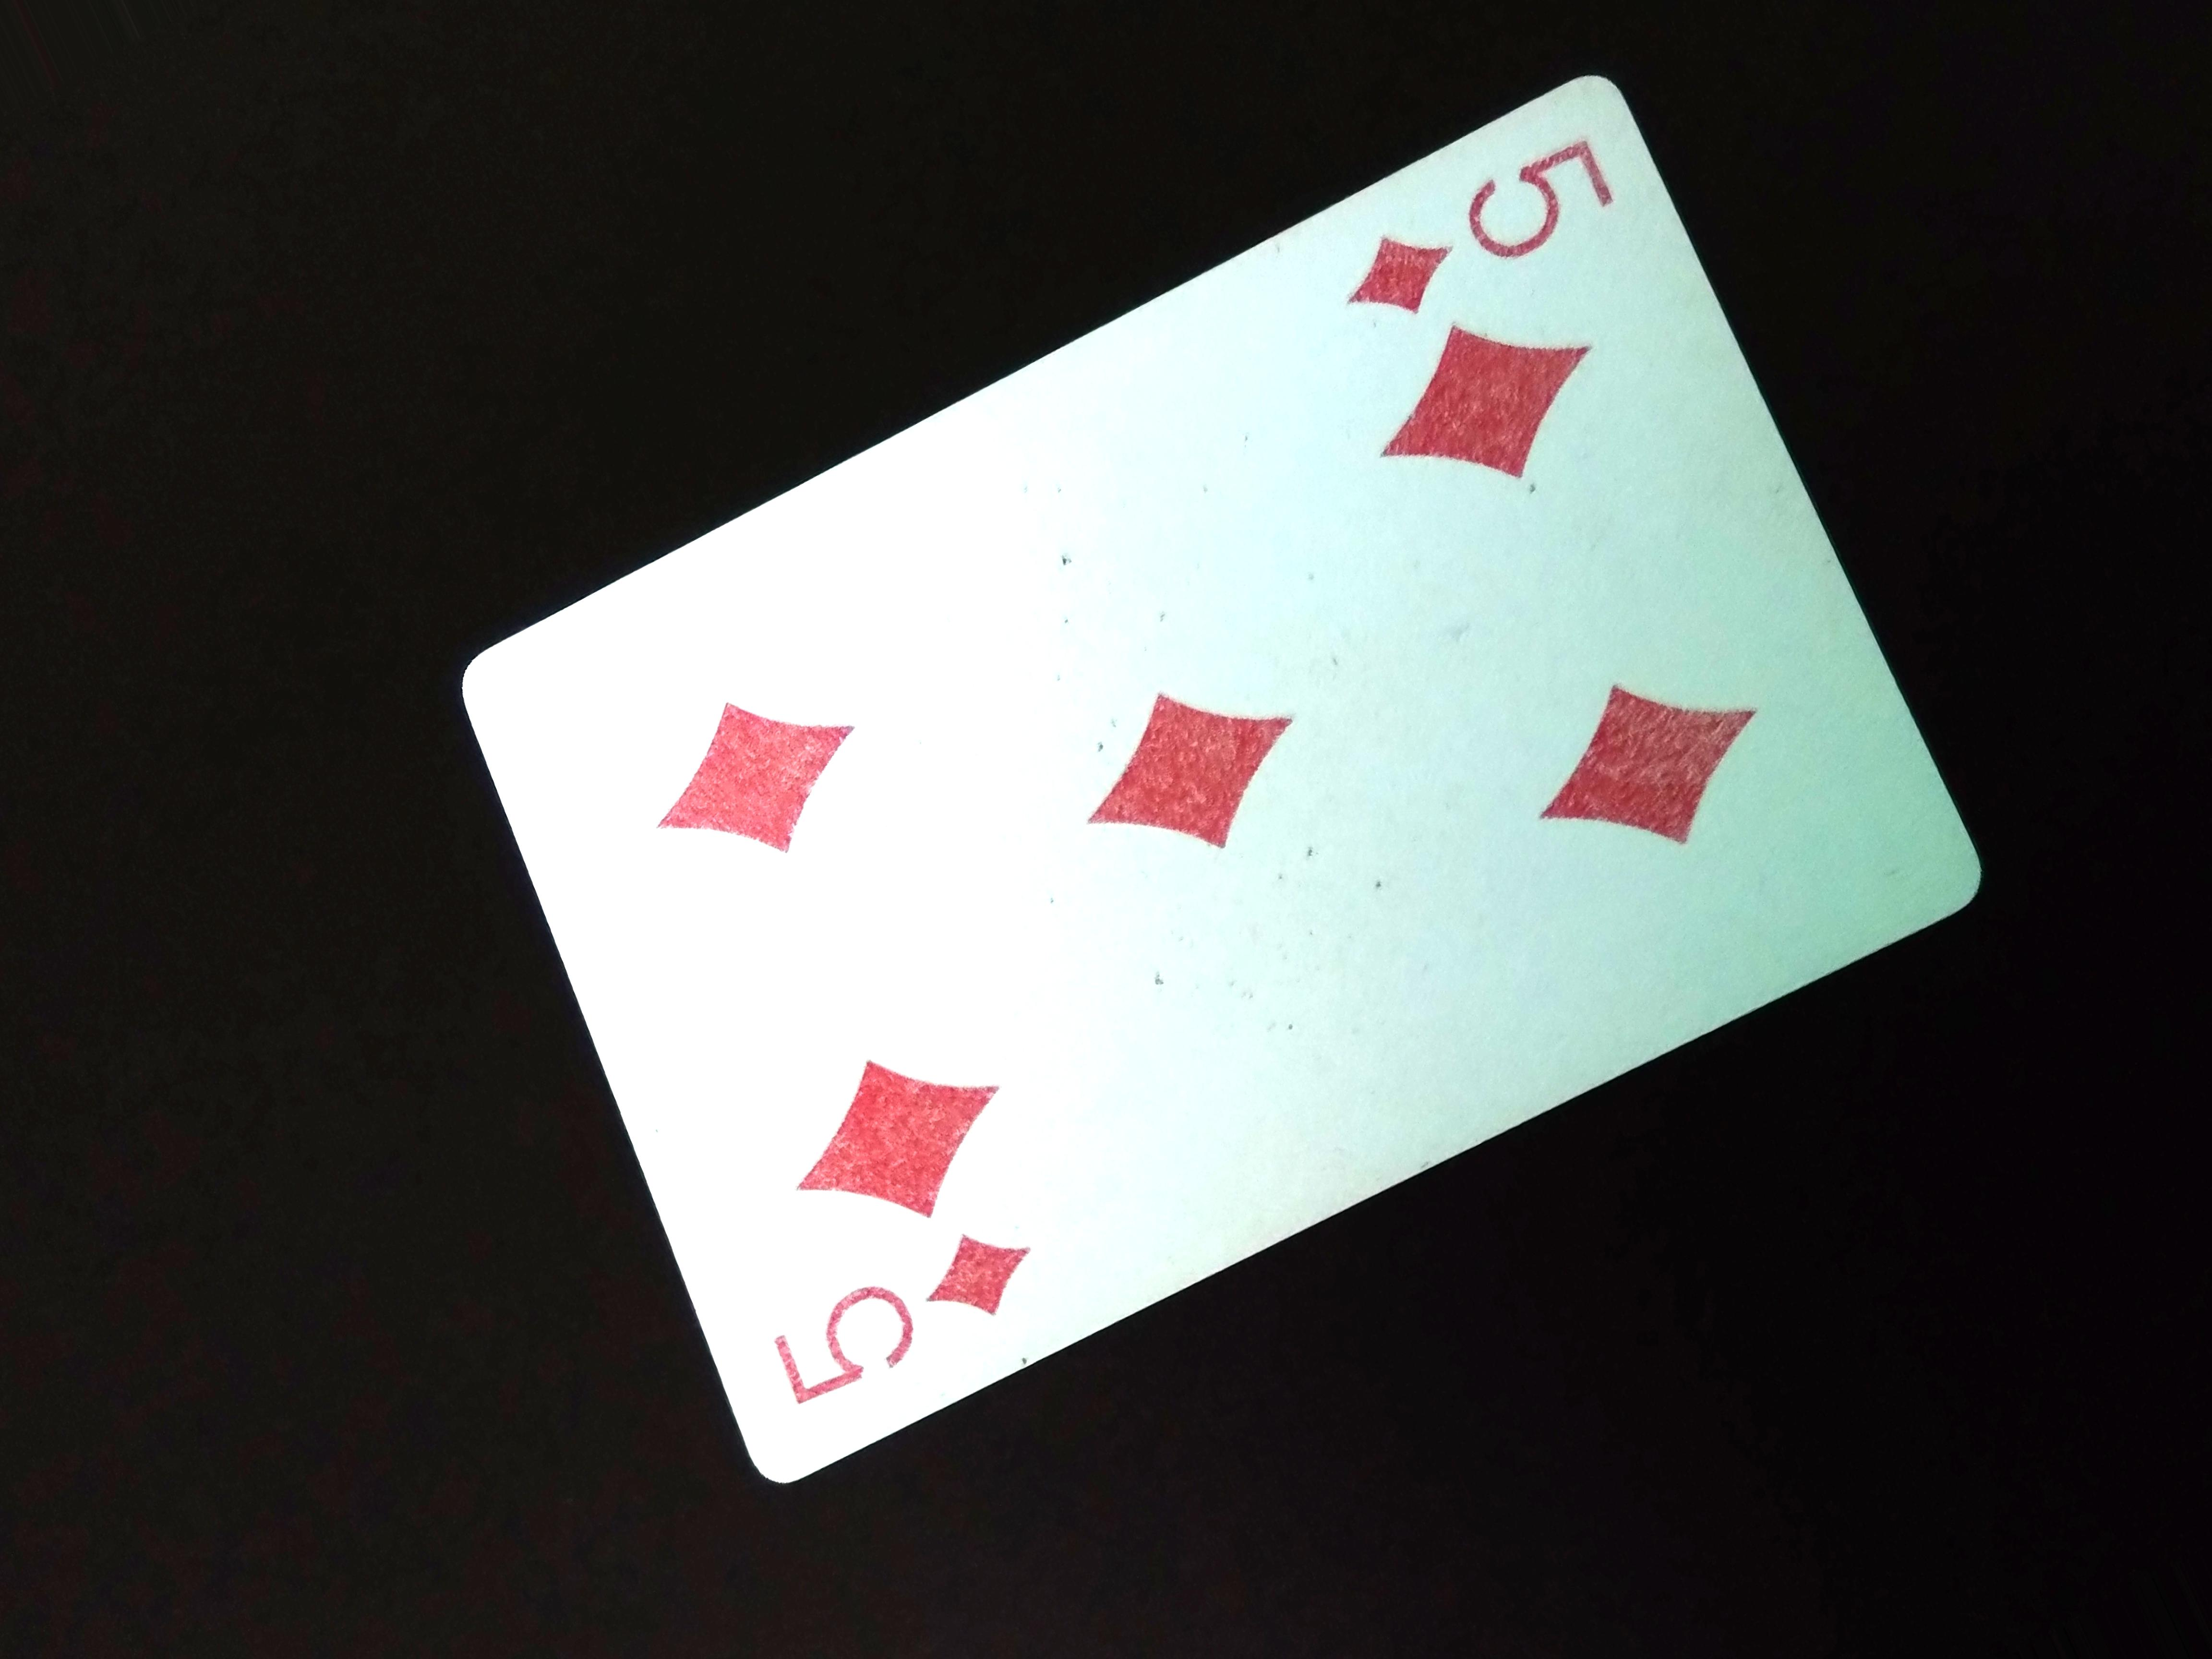5D: (1339, 124, 1639, 329)
